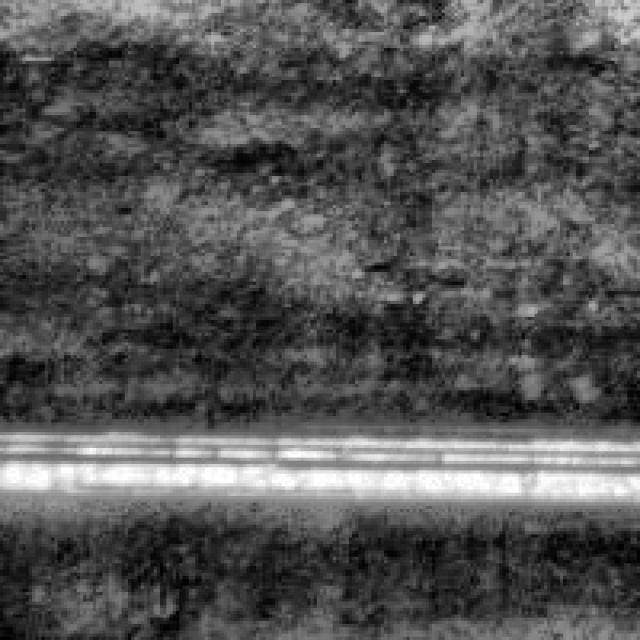Inclusion: (0, 406, 637, 512)
